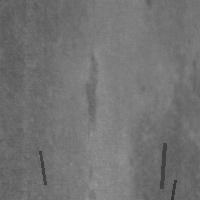inclusion: (130, 78, 198, 198), (79, 46, 101, 136), (159, 141, 166, 190), (38, 149, 47, 186), (168, 178, 177, 200)
